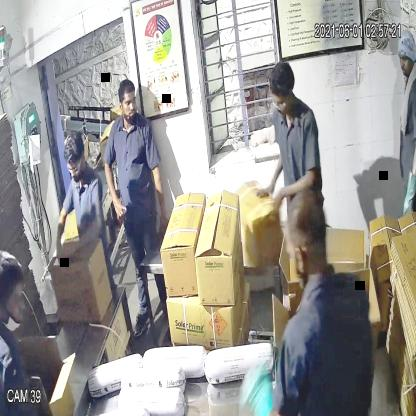goggles: (63, 154, 88, 177), (269, 91, 292, 115)
